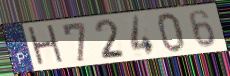0: (157, 11, 187, 54)
2: (93, 18, 127, 60)
4: (130, 14, 157, 58)
6: (188, 9, 217, 50)
7: (60, 22, 88, 64)
H: (25, 23, 67, 69)
